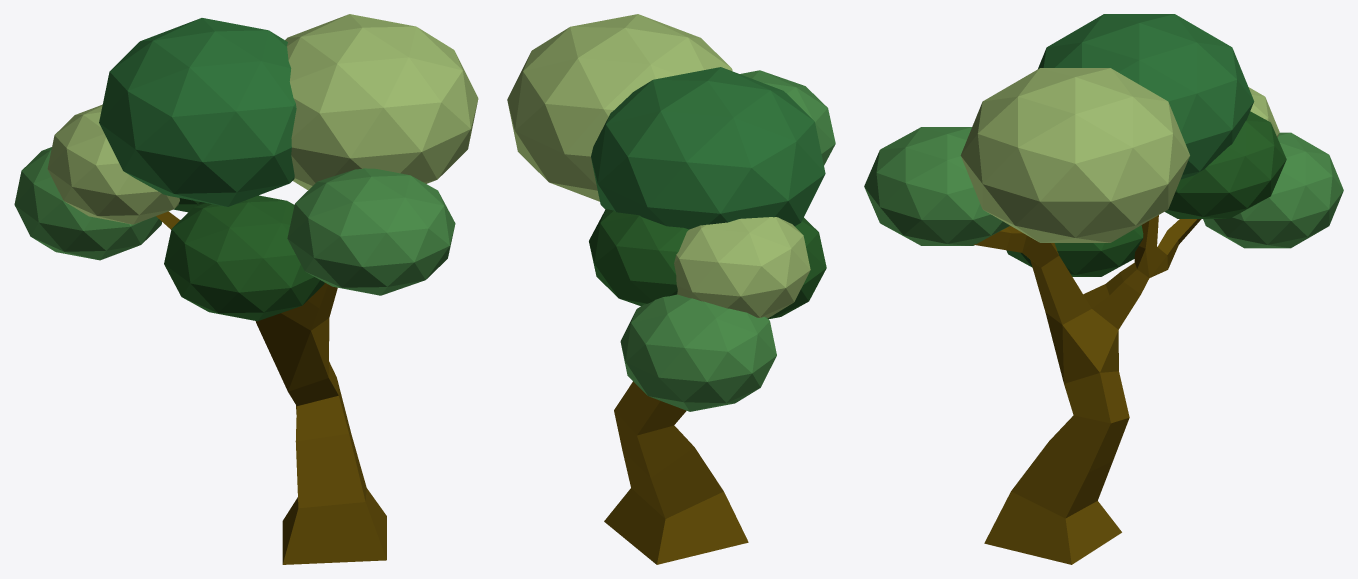
The model's file is Tree1_Green_b.fbx.
The picture shows the model from 3 angles, left to right: view 1: azimuth 30°, elevation 25°; view 2: azimuth 150°, elevation 25°; view 3: azimuth 270°, elevation 25°; orthographic projection. The views are drawn at different scales.
Parts seen in each view (by area): view 1: Icosphere.004, Icosphere.002, Cube, Icosphere.003, Icosphere.006, Icosphere.005, Icosphere; view 2: Icosphere.004, Icosphere.002, Cube, Icosphere, Icosphere.005, Icosphere.001, Icosphere.003, Icosphere.006; view 3: Icosphere.002, Cube, Icosphere.004, Icosphere.003, Icosphere, Icosphere.001, Icosphere.006.
Part boxes in pixels (x1,y1,x2,y2): Icosphere.004: (99,18,296,206); Icosphere.002: (285,14,478,190); Cube: (156,211,386,564); Icosphere.003: (287,168,455,295); Icosphere.006: (164,195,324,321); Icosphere.005: (47,104,179,224); Icosphere: (14,147,161,260); Icosphere.004: (591,67,825,229); Icosphere.002: (507,14,732,201); Cube: (604,381,748,564); Icosphere: (620,294,776,411); Icosphere.005: (674,217,810,317); Icosphere.001: (589,209,688,305); Icosphere.003: (740,70,835,165); Icosphere.006: (767,217,826,319); Icosphere.002: (960,68,1189,242); Cube: (974,215,1201,564); Icosphere.004: (1038,14,1254,179); Icosphere.003: (864,127,1009,245); Icosphere: (1203,132,1343,248); Icosphere.001: (1165,111,1286,218); Icosphere.006: (1006,225,1143,276).
Size of the model in its own units: 584 by 830 by 749.
